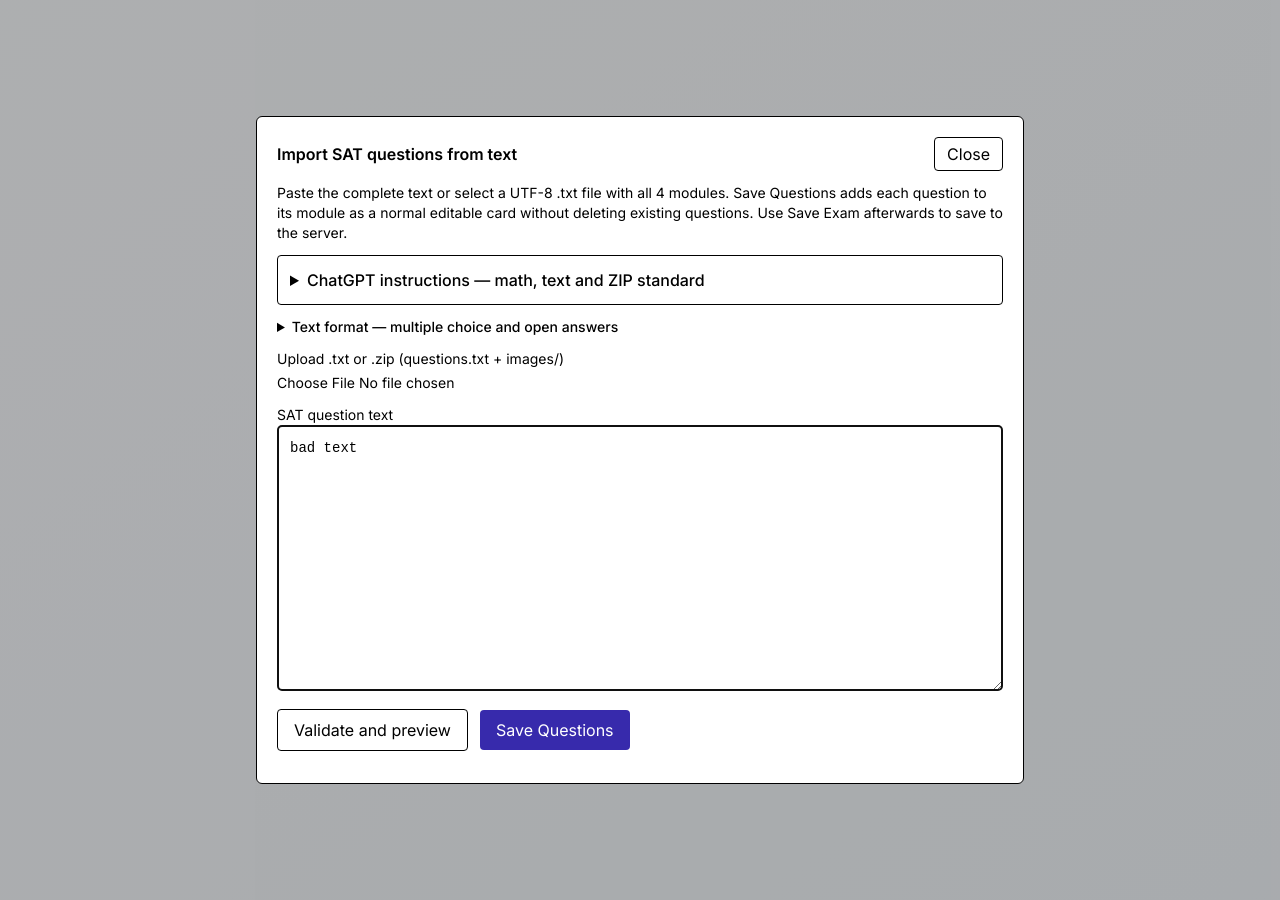
Scenario: Save Questions rejects malformed text without a partial import
The width and height of the screenshot is (1280, 900).
Click the button "Save Questions" at (555, 730), box [480, 710, 630, 750]
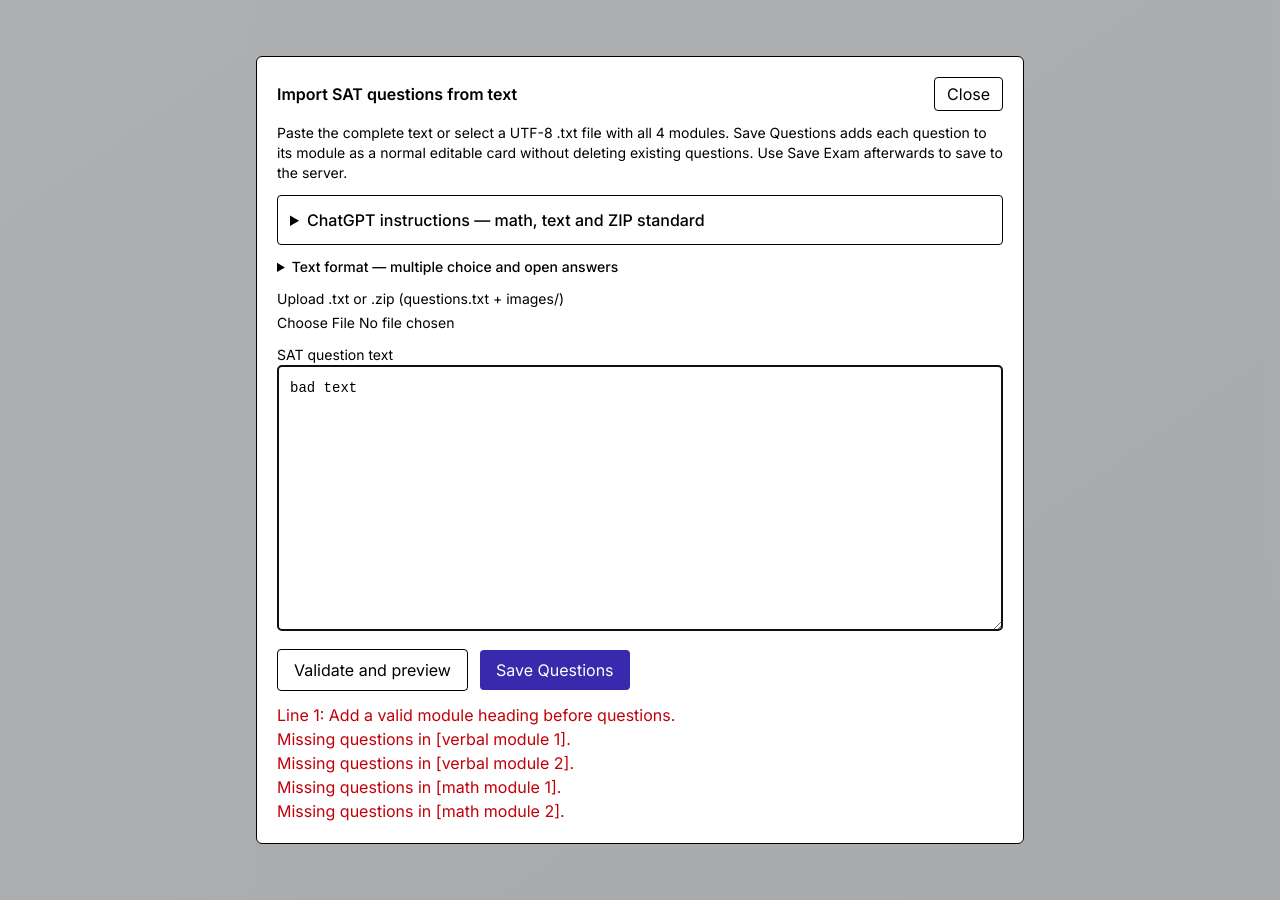
expect the message shows "heading": met, box [277, 705, 675, 725]
